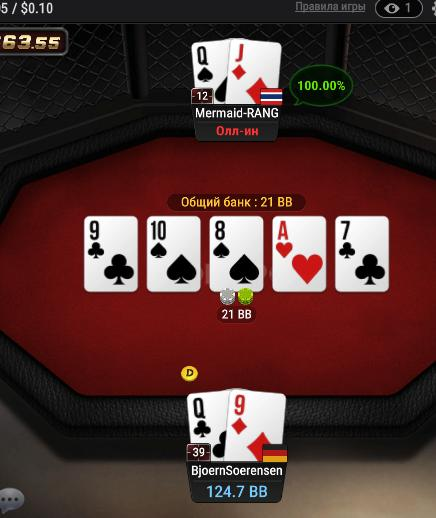10s: (148, 216, 199, 291)
7c: (336, 216, 388, 290)
8s: (210, 216, 264, 291)
9c: (85, 216, 138, 291)
9d: (229, 390, 287, 464)
Ah: (274, 217, 325, 291)
Jd: (227, 36, 282, 102)
Qc: (186, 389, 229, 460)
Qs: (189, 39, 229, 103)
